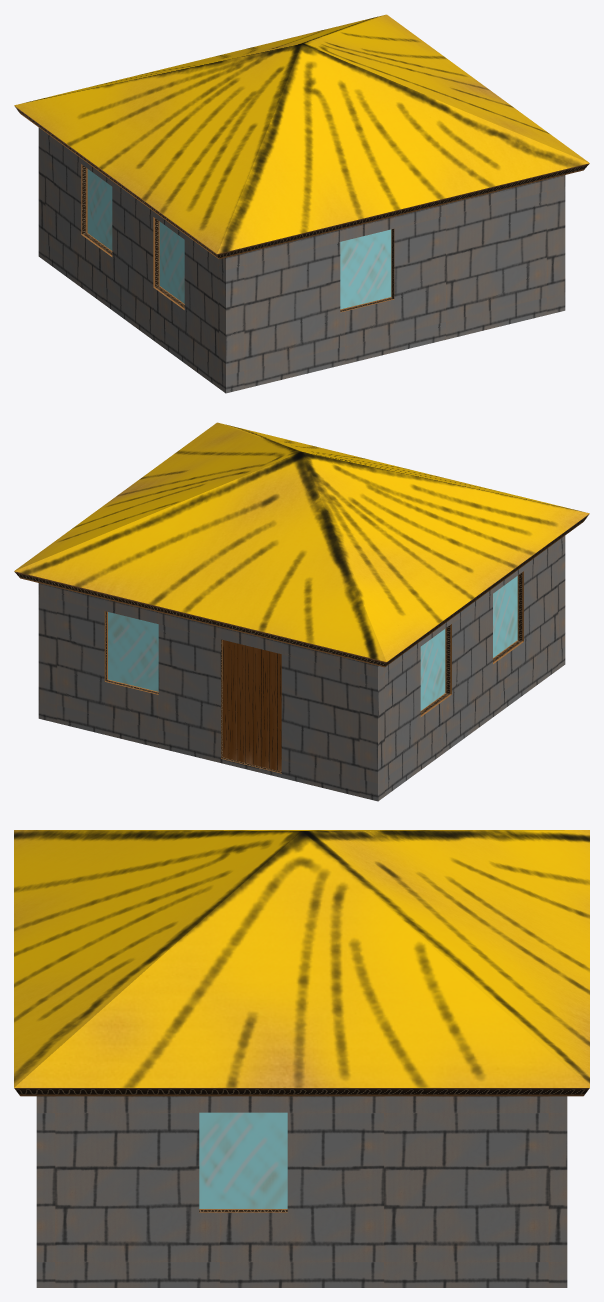
The model's file is HouseNoEnter1.fbx.
3 views of the same model, one above another, from view 1: azimuth 30°, elevation 25°; view 2: azimuth 150°, elevation 25°; view 3: azimuth 270°, elevation 25° (orthographic). The views are drawn at different scales.
Parts seen in each view (by area): view 1: pCube9; view 2: pCube9; view 3: pCube9.
Boxes of the visible parts, box(x1,y1,x2,y2) form: pCube9: box(14, 14, 589, 393); pCube9: box(14, 422, 589, 801); pCube9: box(14, 830, 589, 1287).
Bounding box in the file's own units: 6.9 × 4.24 × 6.51.
